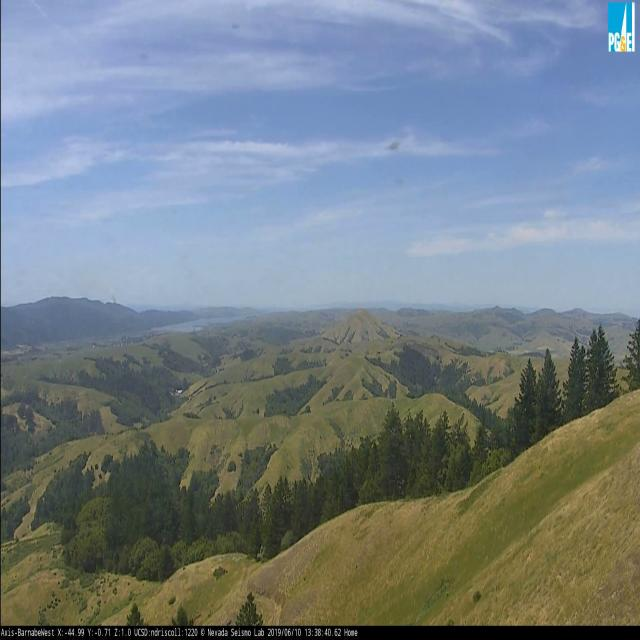smoke: (77, 279, 116, 304)
